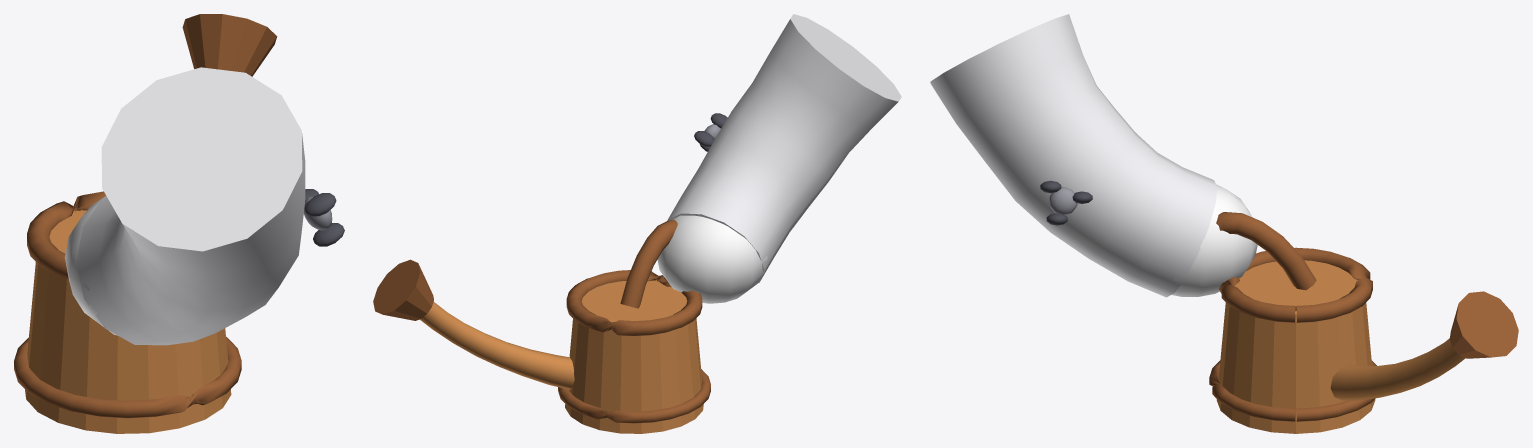
File: SnowLeopardArmR.glb
3 views of the same model, side by side, from view 1: azimuth 30°, elevation 25°; view 2: azimuth 150°, elevation 25°; view 3: azimuth 270°, elevation 25° (orthographic). The views are drawn at different scales.
Parts seen in each view (by area): view 1: SnowLeopardArmR__Fur, SnowLeopardArmR__Copper, SnowLeopardArmR__CopperDark, SnowLeopardArmR__Belly, SnowLeopardArmR__Spot, SnowLeopardArmR__SpotMid; view 2: SnowLeopardArmR__Fur, SnowLeopardArmR__Copper, SnowLeopardArmR__CopperDark, SnowLeopardArmR__Belly; view 3: SnowLeopardArmR__Fur, SnowLeopardArmR__Copper, SnowLeopardArmR__CopperDark, SnowLeopardArmR__Belly, SnowLeopardArmR__Spot, SnowLeopardArmR__SpotMid.
Boxes of the visible parts, x1,y1,x2,y2 form: SnowLeopardArmR__Fur: (76,67,305,345); SnowLeopardArmR__Copper: (25,210,231,433); SnowLeopardArmR__CopperDark: (14,14,277,418); SnowLeopardArmR__Belly: (64,196,117,335); SnowLeopardArmR__Spot: (304,189,344,246); SnowLeopardArmR__SpotMid: (303,196,332,230); SnowLeopardArmR__Fur: (667,14,901,283); SnowLeopardArmR__Copper: (420,280,703,433); SnowLeopardArmR__CopperDark: (373,219,710,423); SnowLeopardArmR__Belly: (657,215,767,303); SnowLeopardArmR__Fur: (930,14,1217,297); SnowLeopardArmR__Copper: (1216,260,1465,433); SnowLeopardArmR__CopperDark: (1209,212,1518,421); SnowLeopardArmR__Belly: (1171,184,1257,296); SnowLeopardArmR__Spot: (1040,180,1092,225); SnowLeopardArmR__SpotMid: (1049,187,1077,214).
Bounding box in the file's own units: 0.7716 × 0.7309 × 1.11.
